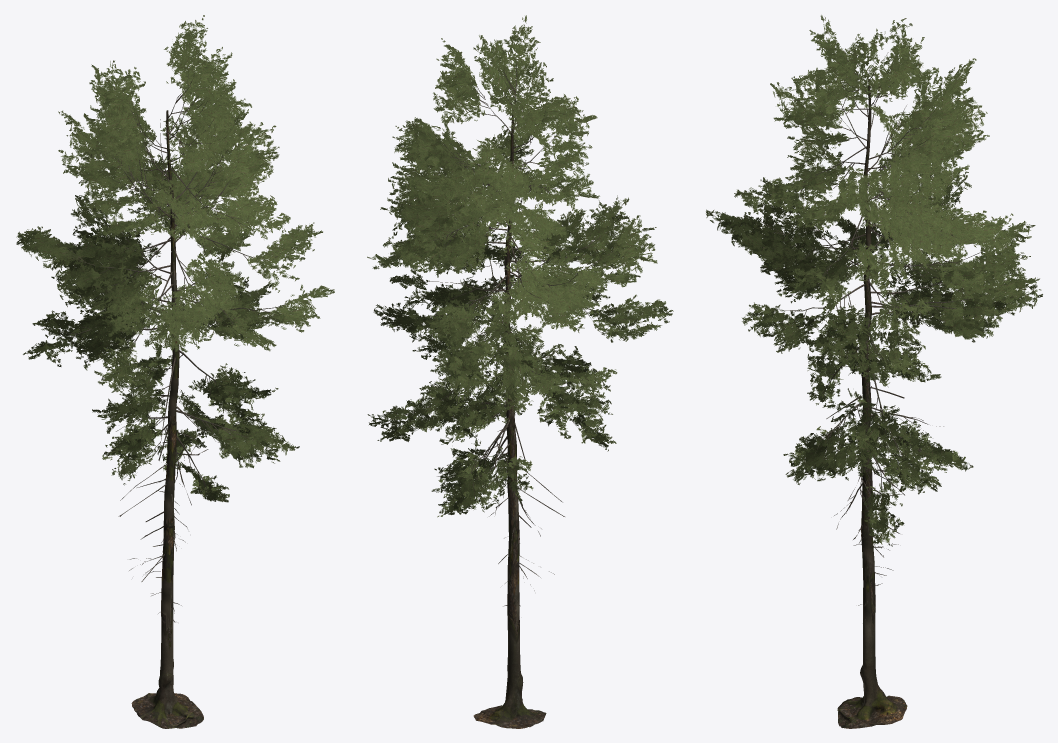
File: conifer.glb
The picture shows the model from 3 angles, left to right: view 1: azimuth 30°, elevation 25°; view 2: azimuth 150°, elevation 25°; view 3: azimuth 270°, elevation 25°; orthographic projection. The views are drawn at different scales.
Parts seen in each view (by area): view 1: fir_tree_01_b_LOD0; view 2: fir_tree_01_b_LOD0; view 3: fir_tree_01_b_LOD0.
Boxes of the visible parts, x1,y1,x2,y2 form: fir_tree_01_b_LOD0: [16, 15, 334, 728]; fir_tree_01_b_LOD0: [367, 15, 673, 728]; fir_tree_01_b_LOD0: [706, 15, 1042, 728].
Size of the model in its own units: 5.61 by 14.06 by 6.11.
4 materials, 4 textured.
